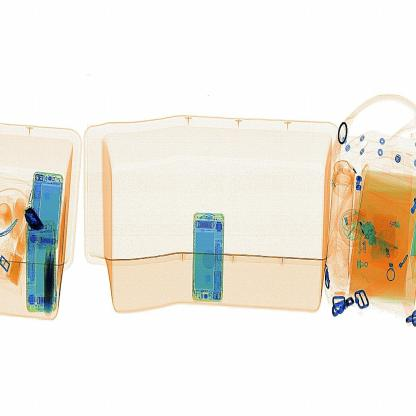scissors: (20, 197, 51, 240)
